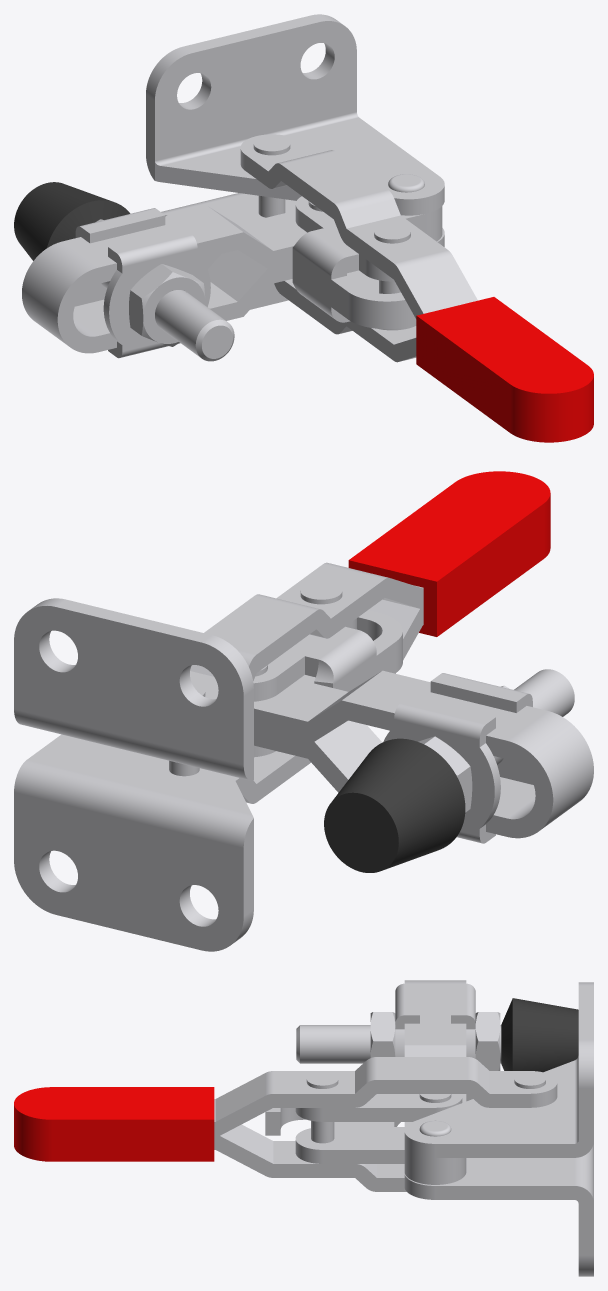
The model's file is Misumi-C-LD-101A.obj.
3 views of the same model, one above another, from view 1: azimuth 30°, elevation 25°; view 2: azimuth 150°, elevation 25°; view 3: azimuth 270°, elevation 25° (orthographic). The views are drawn at different scales.
Visible parts, largest first — view 1: Body1:6, Body1, Body1:1, Body1:2, Body1:3, Body1:5, Body1:4, Body1:8; view 2: Body1, Body1:6, Body1:1, Body1:3, Body1:2, Body1:8, Body1:5, Body1:7; view 3: Body1:6, Body1, Body1:3, Body1:2, Body1:1, Body1:7, Body1:8, Body1:5, Body1:4.
Boxes of the visible parts, bbox=[...] form: Body1:6: bbox=[240, 134, 593, 442]; Body1: bbox=[146, 14, 444, 309]; Body1:1: bbox=[22, 206, 442, 353]; Body1:2: bbox=[292, 196, 416, 330]; Body1:3: bbox=[14, 182, 234, 361]; Body1:5: bbox=[103, 228, 210, 358]; Body1:4: bbox=[129, 264, 205, 346]; Body1:8: bbox=[75, 208, 165, 306]; Body1: bbox=[14, 598, 253, 951]; Body1:6: bbox=[169, 471, 550, 803]; Body1:1: bbox=[254, 670, 593, 838]; Body1:3: bbox=[324, 669, 574, 872]; Body1:2: bbox=[253, 610, 402, 757]; Body1:8: bbox=[383, 696, 500, 843]; Body1:5: bbox=[430, 673, 533, 784]; Body1:7: bbox=[418, 736, 472, 812]; Body1:6: bbox=[14, 1057, 557, 1191]; Body1: bbox=[404, 982, 593, 1276]; Body1:3: bbox=[296, 998, 578, 1072]; Body1:2: bbox=[265, 1094, 462, 1163]; Body1:1: bbox=[404, 980, 466, 1184]; Body1:7: bbox=[475, 1012, 500, 1070]; Body1:8: bbox=[451, 983, 475, 1101]; Body1:5: bbox=[395, 983, 419, 1056]; Body1:4: bbox=[370, 1012, 395, 1057].
Bounding box in the file's own units: 51.49 × 33.3 × 75.
